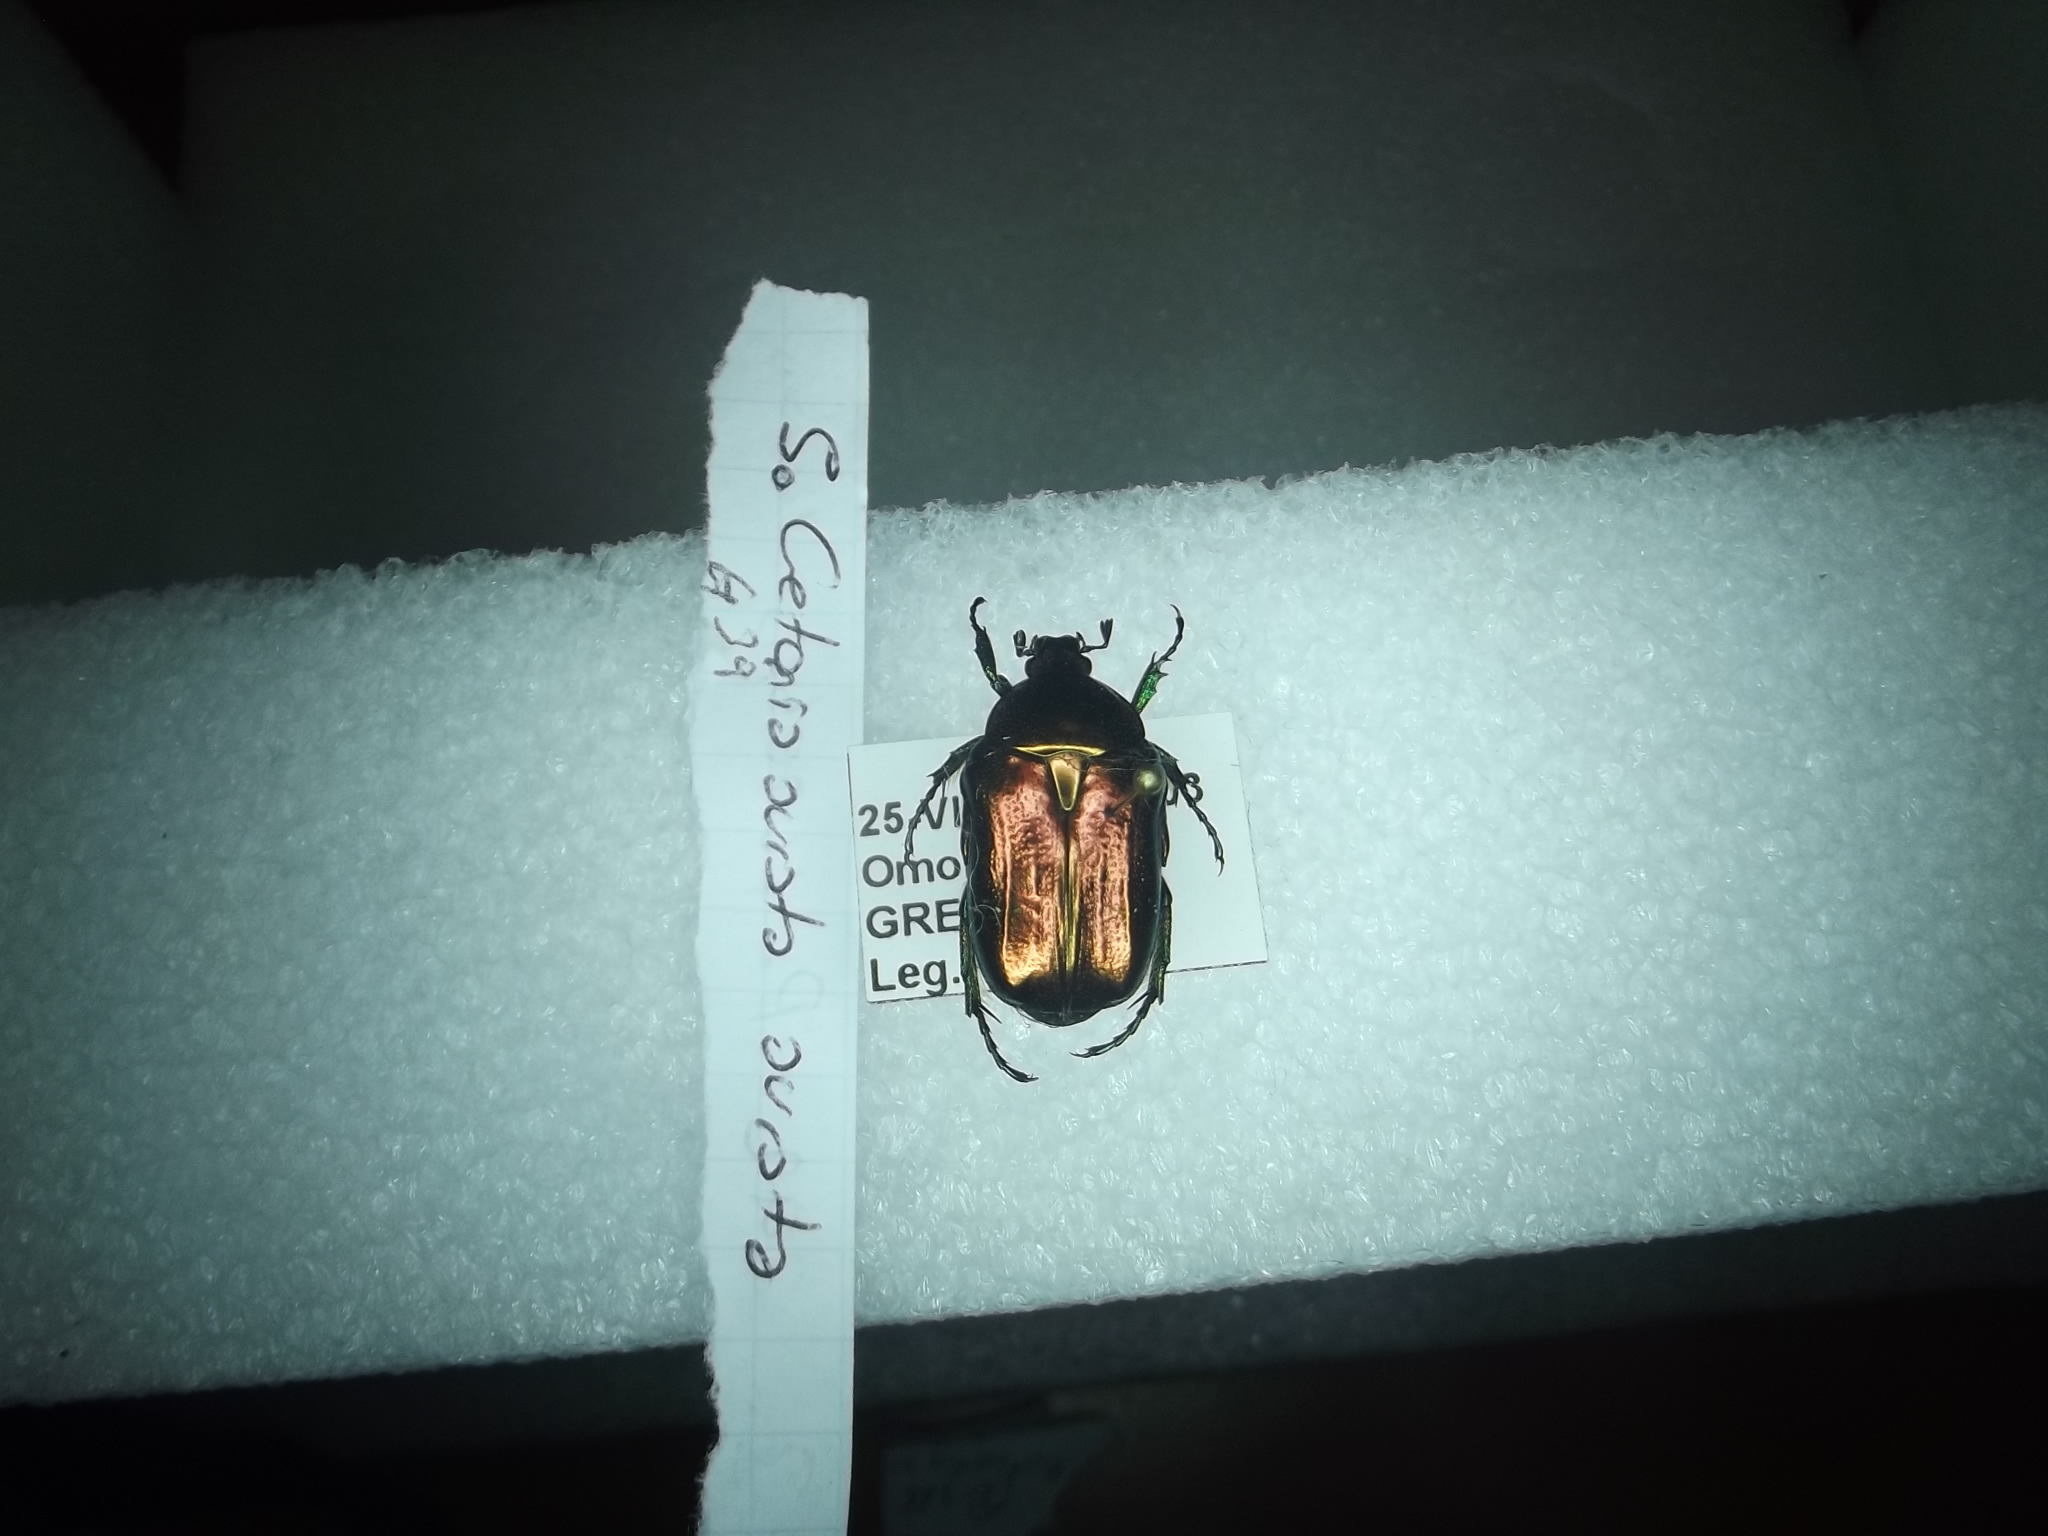Cetonia_aurata: (924, 560, 1218, 1089)
